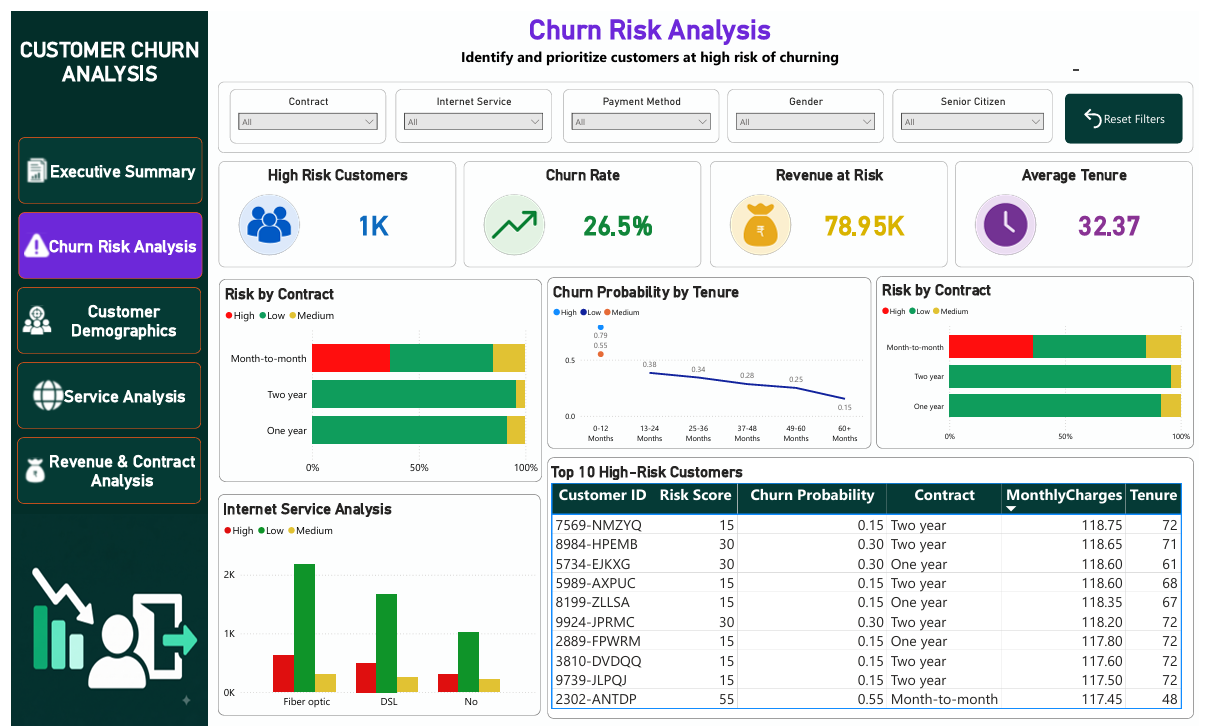

What the dashboard file says about the page in this screenshot:
{"tool":"powerbi","page":{"name":"Churn Risk Analysis","canvas":[1900,1145],"ordinal":1},"visuals":[{"type":"shape","box":[0,0,315,1400],"z":0,"group":"g2"},{"type":"shape","box":[331.4,113.1,1560,114],"z":0,"group":"g1"},{"type":"cardVisual","title":"High Risk Customers","fields":{"Data":["Measure_tbl.High Risk Customers"]},"box":[332,240,380,170],"z":0},{"type":"slicer","title":"Senior Citizen","fields":{"Values":["DimCustomer.SeniorCitizen"]},"box":[1410,125,256,86],"z":1000,"group":"g1"},{"type":"actionButton","box":[12,202,294,106],"z":1000,"group":"g2"},{"type":"cardVisual","title":"Churn Rate","fields":{"Data":["Measure_tbl.Churn Rate"]},"box":[724,240,380,170],"z":1000},{"type":"slicer","title":"Contract","fields":{"Values":["DimContract.Contract"]},"box":[350.4,125,250,86.7],"z":2000,"group":"g1"},{"type":"cardVisual","title":"Revenue at Risk","fields":{"Data":["Measure_tbl.Revenue at Risk"]},"box":[1118,240,380,170],"z":2000},{"type":"actionButton","box":[12,322,294,106],"z":2000,"group":"g2"},{"type":"actionButton","box":[1686,132,188,80],"z":3000,"group":"g1"},{"type":"cardVisual","title":"Average Tenure","fields":{"Data":["Measure_tbl.Average Tenure"]},"box":[1510,240,380,170],"z":3000},{"type":"actionButton","box":[10,442,294,106],"z":3000,"group":"g2"},{"type":"slicer","title":"Internet Service","fields":{"Values":["DimService.InternetService"]},"box":[615.4,125,250,86],"z":4000,"group":"g1"},{"type":"lineChart","title":"Churn Probability by Tenure","fields":{"Category":["FactCustomer.Tenure Group"],"Y":["Avg(FactCustomer.Churn Probability)"],"Series":["FactCustomer.Risk Level"]},"box":[858,426,518,274],"z":4000},{"type":"actionButton","box":[10,562,294,106],"z":4000,"group":"g2"},{"type":"slicer","title":"Payment Method","fields":{"Values":["DimPaymentMethod.PaymentMethod"]},"box":[883.4,125,250,86],"z":5000,"group":"g1"},{"type":"hundredPercentStackedBarChart","title":"Risk by Contract","fields":{"Series":["FactCustomer.Risk Level"],"Category":["DimContract.Contract"],"Y":["Measure_tbl.Total Customers"]},"box":[332.7,428.6,516.3,324.5],"z":5000},{"type":"actionButton","box":[10,682,294,106],"z":5000,"group":"g2"},{"type":"slicer","title":"Gender","fields":{"Values":["DimCustomer.gender"]},"box":[1146.6,125,250,86],"z":6000,"group":"g1"},{"type":"clusteredColumnChart","title":"Internet Service Analysis","fields":{"Category":["DimService.InternetService"],"Y":["Measure_tbl.Total Customers"],"Series":["FactCustomer.Risk Level"]},"box":[330.6,773.5,516.3,353.1],"z":6000},{"type":"tableEx","title":"Top 10 High-Risk Customers","fields":{"Values":["DimCustomer.customerID","FactCustomer.Risk Score","Sum(FactCustomer.Churn Probability)","DimContract.Contract","Sum(FactCustomer.MonthlyCharges)","Sum(FactCustomer.tenure)"]},"box":[858,714,1034,418],"z":7000},{"type":"textbox","title":"Churn Risk Analysis","box":[332,4,1380,96],"z":8000},{"type":"hundredPercentStackedBarChart","title":"Risk by Contract","fields":{"Series":["FactCustomer.Risk Level"],"Category":["DimContract.Contract"],"Y":["Measure_tbl.Total Customers"]},"box":[1384,424,508,276],"z":9000},{"type":"group","id":"g1","title":"Group 1","box":[331.4,113.1,1560,114],"z":10000},{"type":"group","id":"g2","title":"Group 2","box":[0,0,316,1400],"z":11000},{"type":"textbox","box":[0,38,316,116],"z":12000},{"type":"image","box":[1.8,804.8,313.7,340.6],"z":13000}]}

Visuals, with their boxes on the page's 1900x1145 design canvas (x1, y1, x2, y2). These are canvas units, not pixel positions in the 1205x727 screenshot, which may show the page scaled, cropped or inside an application window:
shape: bbox=(0, 0, 315, 1400)
shape: bbox=(331, 113, 1891, 227)
"High Risk Customers" cardVisual: bbox=(332, 240, 712, 410)
"Senior Citizen" slicer: bbox=(1410, 125, 1666, 211)
actionButton: bbox=(12, 202, 306, 308)
"Churn Rate" cardVisual: bbox=(724, 240, 1104, 410)
"Contract" slicer: bbox=(350, 125, 600, 212)
"Revenue at Risk" cardVisual: bbox=(1118, 240, 1498, 410)
actionButton: bbox=(12, 322, 306, 428)
actionButton: bbox=(1686, 132, 1874, 212)
"Average Tenure" cardVisual: bbox=(1510, 240, 1890, 410)
actionButton: bbox=(10, 442, 304, 548)
"Internet Service" slicer: bbox=(615, 125, 865, 211)
"Churn Probability by Tenure" lineChart: bbox=(858, 426, 1376, 700)
actionButton: bbox=(10, 562, 304, 668)
"Payment Method" slicer: bbox=(883, 125, 1133, 211)
"Risk by Contract" hundredPercentStackedBarChart: bbox=(333, 429, 849, 753)
actionButton: bbox=(10, 682, 304, 788)
"Gender" slicer: bbox=(1147, 125, 1397, 211)
"Internet Service Analysis" clusteredColumnChart: bbox=(331, 774, 847, 1127)
"Top 10 High-Risk Customers" tableEx: bbox=(858, 714, 1892, 1132)
"Churn Risk Analysis" textbox: bbox=(332, 4, 1712, 100)
"Risk by Contract" hundredPercentStackedBarChart: bbox=(1384, 424, 1892, 700)
"Group 1" group: bbox=(331, 113, 1891, 227)
"Group 2" group: bbox=(0, 0, 316, 1400)
textbox: bbox=(0, 38, 316, 154)
image: bbox=(2, 805, 316, 1145)
